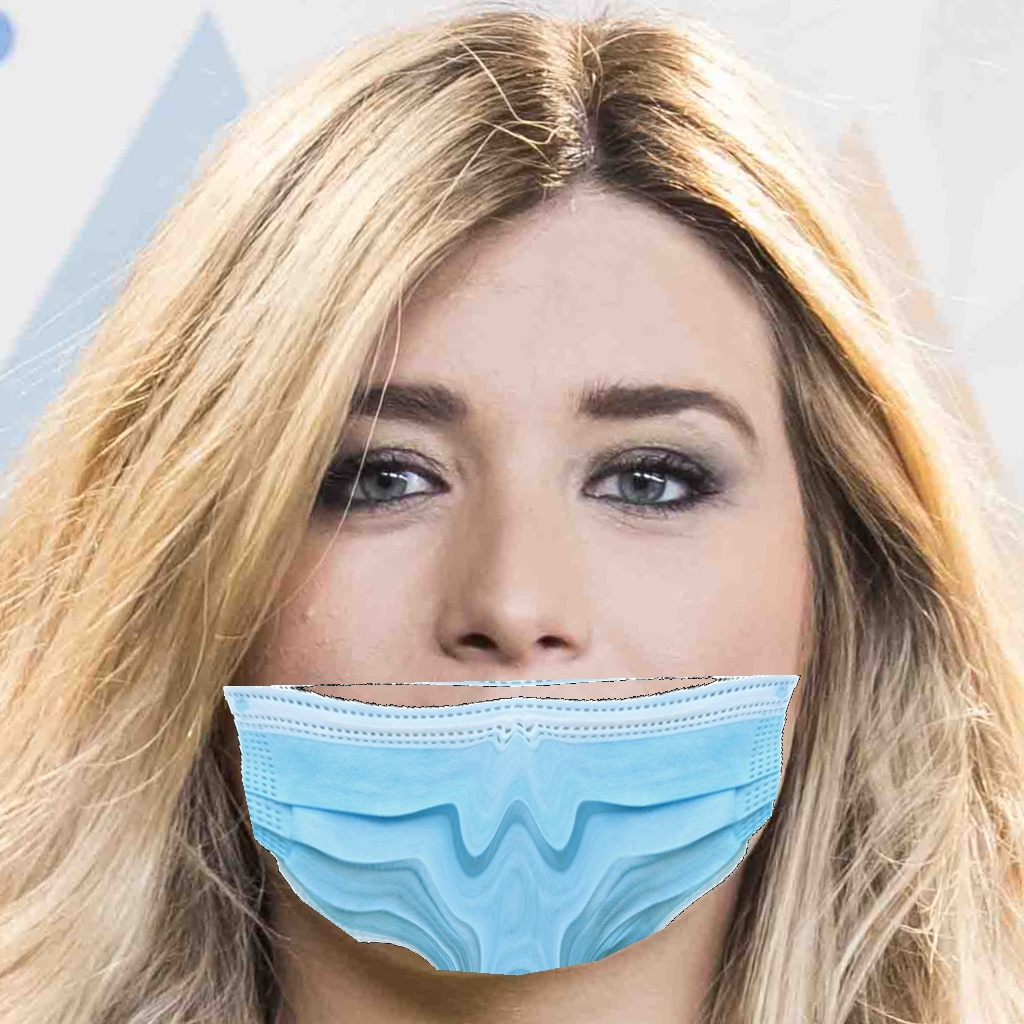mascarilla_mal_puesta: (247, 233, 857, 1005)
